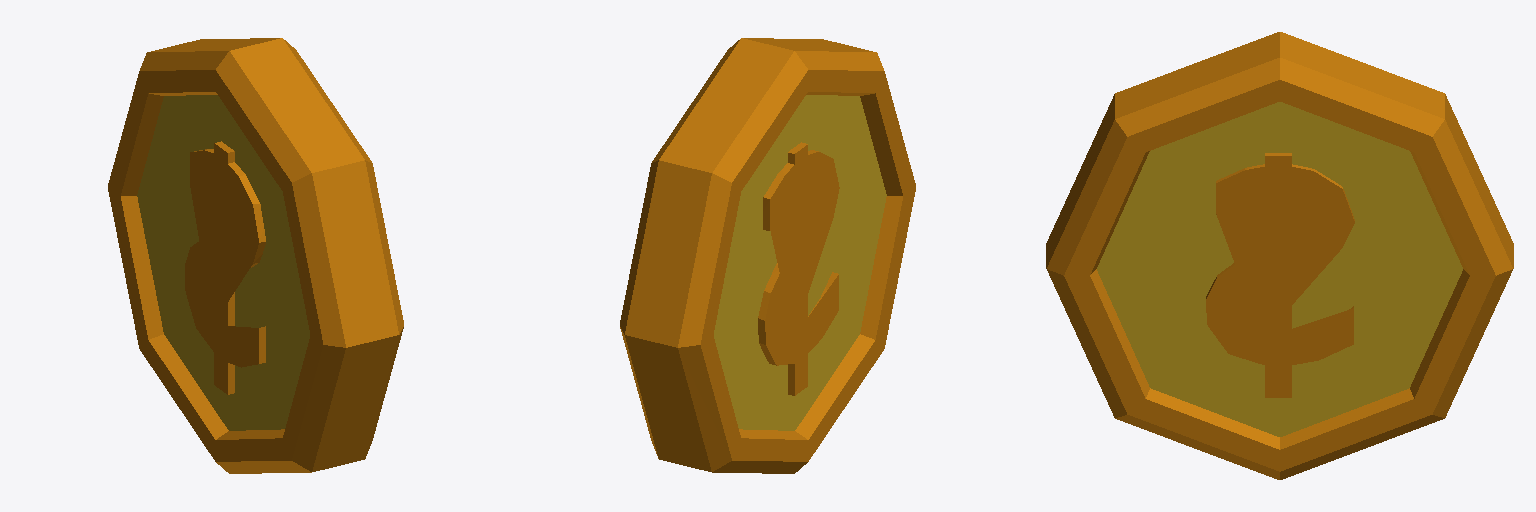
The model's file is CoinDollarSign.obj.
3 views of the same model, side by side, from view 1: azimuth 30°, elevation 25°; view 2: azimuth 150°, elevation 25°; view 3: azimuth 270°, elevation 25° (orthographic).
Visible parts, largest first — view 1: Coin_Cylinder; view 2: Coin_Cylinder; view 3: Coin_Cylinder.
Boxes of the visible parts, <box> form: Coin_Cylinder: <box>108,38,403,473</box>; Coin_Cylinder: <box>620,38,915,473</box>; Coin_Cylinder: <box>1046,32,1513,479</box>.
Bounding box in the file's own units: 0.08 × 0.4 × 0.4.